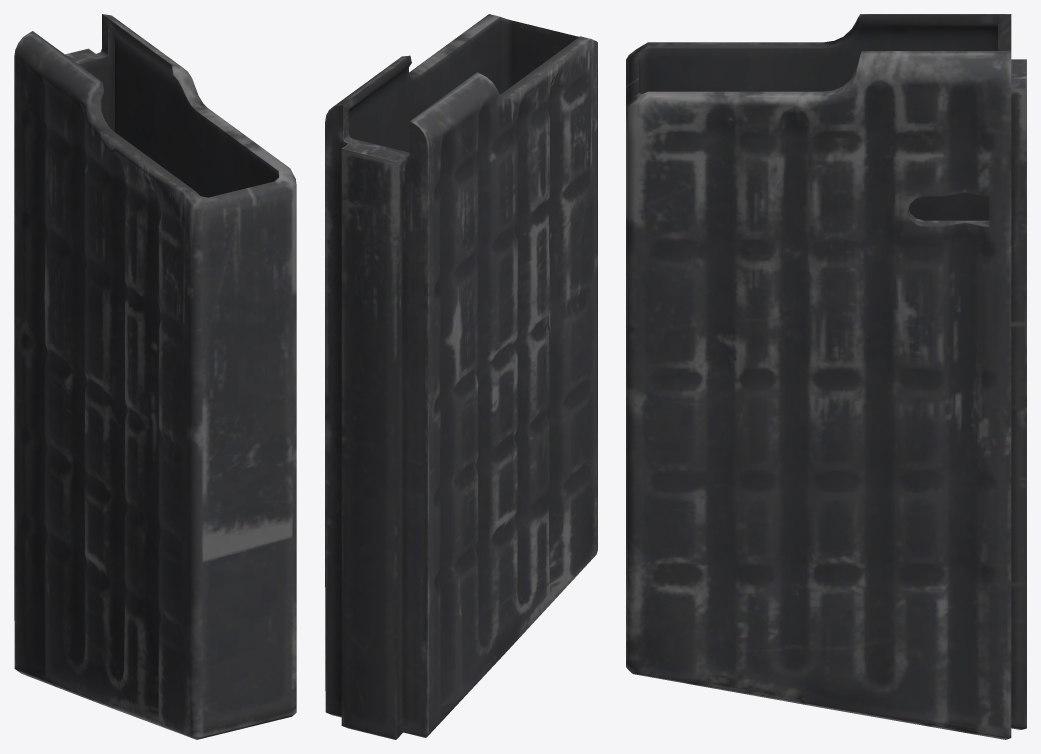
The model's file is AR10_Magazine_20rnd.fbx.
3 renders of one model, left to right at view 1: azimuth 30°, elevation 25°; view 2: azimuth 150°, elevation 25°; view 3: azimuth 270°, elevation 25°, orthographic. The views are drawn at different scales.
Visible parts, largest first — view 1: Magazine; view 2: Magazine; view 3: Magazine.
Boxes of the visible parts, x1,y1,x2,y2 form: Magazine: [14, 14, 296, 739]; Magazine: [325, 14, 597, 739]; Magazine: [626, 14, 1026, 739].
Size of the model in its own units: 2.59 by 14.89 by 7.91.
